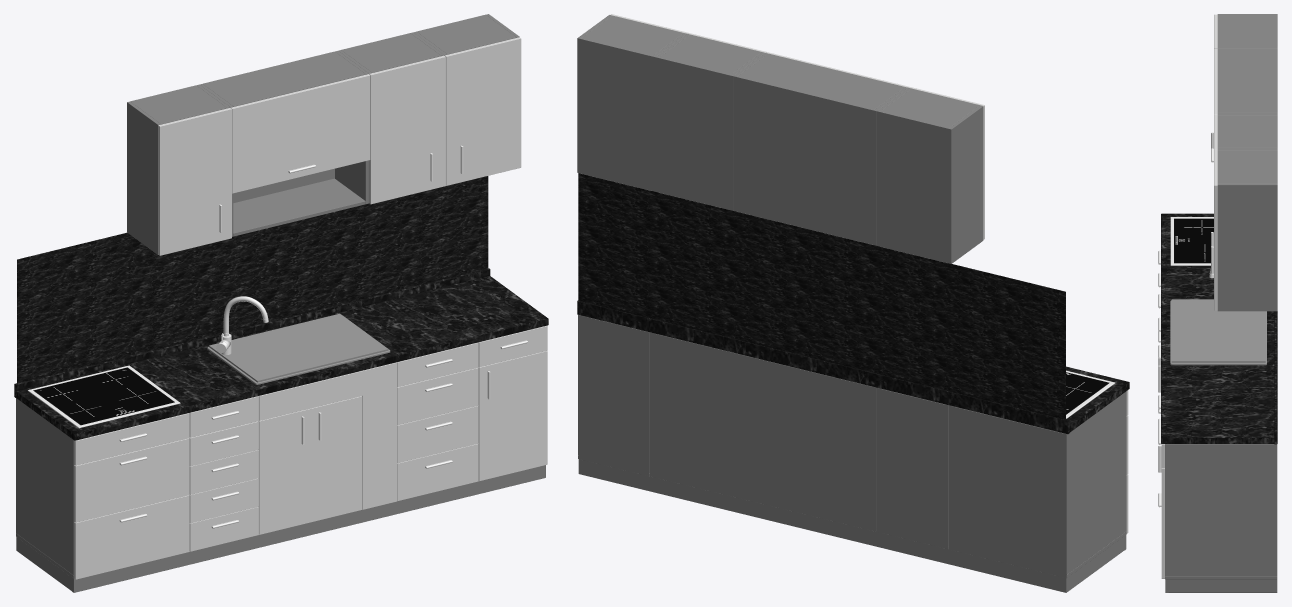
File: modern_kitchen_set.glb
3 renders of one model, left to right at view 1: azimuth 30°, elevation 25°; view 2: azimuth 150°, elevation 25°; view 3: azimuth 270°, elevation 25°, orthographic. The views are drawn at different scales.
Parts seen in each view (by area): view 1: back decor wall, top, cabinet_ground_40x82.016, cabinet_ground_40x82.012, cabinet_ground_40x82.003, cabinet_wall_40.003, cabinet_ground_40x82.011, cabinet_ground_40x82.004, cabinet_ground_40x82.013, cabinet_ground_40x82.005, cabinet_ground_40x82.014, cabinet_ground_40x82.006 (+14 smaller); view 2: back decor wall, cabinet_ground_60x82.002, cabinet_ground_40x82.014, cabinet_wall_40.003, cabinet_wall_40.004, cabinet_wall_40.001, cabinet_wall_40.002, cabinet_ground_60x82.001, cabinet_ground_40x82.001, bootom stand, top.back, top (+1 smaller); view 3: cabinet_ground_60x82.001, top, cabinet_wall_40.002, sink FRANKE._booleanbox, cabinet_wall_40.003, cabinet_wall_40.001, cabinet_wall_40.004, Plane.002, bootom stand, cabinet_ground_40x82.004, sink FRANKE, top.back (+4 smaller).
Part boxes in pixels (box(x1,y1,x2,y2)): back decor wall: box(17, 176, 488, 383); top: box(16, 276, 548, 440); cabinet_ground_40x82.016: box(74, 438, 189, 579); cabinet_ground_40x82.012: box(231, 74, 370, 193); cabinet_ground_40x82.003: box(258, 396, 362, 534); cabinet_wall_40.003: box(199, 51, 368, 236); cabinet_ground_40x82.011: box(369, 55, 445, 204); cabinet_ground_40x82.004: box(444, 37, 521, 185); cabinet_ground_40x82.013: box(158, 108, 231, 255); cabinet_ground_40x82.005: box(397, 367, 478, 501); cabinet_ground_40x82.014: box(16, 398, 73, 578); cabinet_ground_40x82.006: box(478, 350, 547, 481); back decor wall: box(578, 173, 1065, 419); cabinet_ground_60x82.002: box(649, 332, 876, 531); cabinet_ground_40x82.014: box(948, 391, 1126, 578); cabinet_wall_40.003: box(733, 53, 908, 245); cabinet_wall_40.004: box(876, 88, 983, 263); cabinet_wall_40.001: box(655, 34, 764, 210); cabinet_wall_40.002: box(577, 15, 686, 191); cabinet_ground_60x82.001: box(578, 315, 649, 476); cabinet_ground_40x82.001: box(877, 388, 948, 549); bootom stand: box(578, 459, 1126, 592); top.back: box(577, 300, 1069, 434); top: box(1066, 366, 1129, 432); cabinet_ground_60x82.001: box(1165, 444, 1277, 579); top: box(1161, 213, 1274, 443); cabinet_wall_40.002: box(1217, 149, 1277, 311); sink FRANKE._booleanbox: box(1171, 299, 1265, 362); cabinet_wall_40.003: box(1217, 48, 1277, 113); cabinet_wall_40.001: box(1217, 113, 1277, 149); cabinet_wall_40.004: box(1217, 14, 1277, 48); Plane.002: box(1174, 218, 1213, 263); bootom stand: box(1165, 579, 1277, 592); cabinet_ground_40x82.004: box(1214, 150, 1217, 310); sink FRANKE: box(1170, 300, 1266, 365); top.back: box(1274, 311, 1277, 444).
Size of the model in its own units: 2.75 by 2.33 by 0.6157.
Materials: 10 (3 with a texture image).
